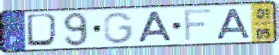9: (61, 11, 91, 48)
A: (136, 10, 174, 44), (215, 7, 253, 41)
D: (25, 12, 62, 49)
F: (182, 8, 213, 43)
G: (102, 11, 136, 45)
